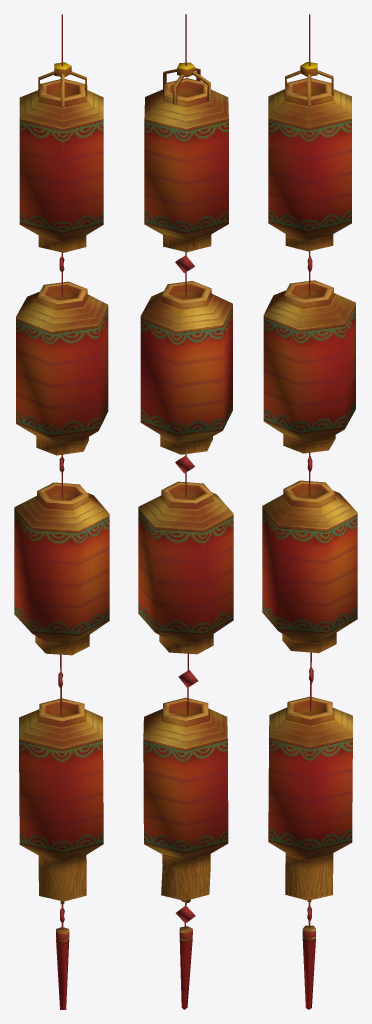
Rendered from q01a_thing_02.FBX.
3 views of the same model, side by side, from view 1: azimuth 90°, elevation 25°; view 2: azimuth 150°, elevation 25°; view 3: azimuth 270°, elevation 25° (orthographic).
Parts seen in each view (by area): view 1: q01a_thing_02; view 2: q01a_thing_02; view 3: q01a_thing_02.
Boxes of the visible parts, x1,y1,x2,y2 form: q01a_thing_02: [14, 14, 109, 1009]; q01a_thing_02: [138, 14, 233, 1009]; q01a_thing_02: [262, 14, 357, 1009].
Bounding box in the file's own units: 14.07 × 158 × 13.77.
